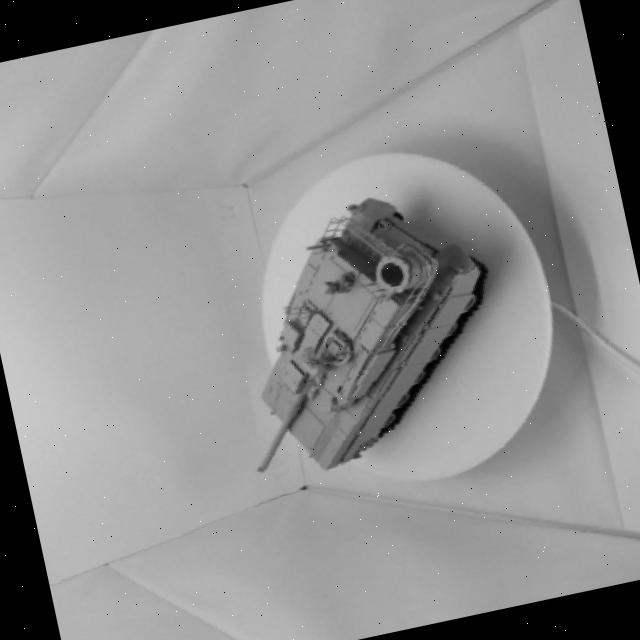korea tank: (177, 164, 538, 518)
